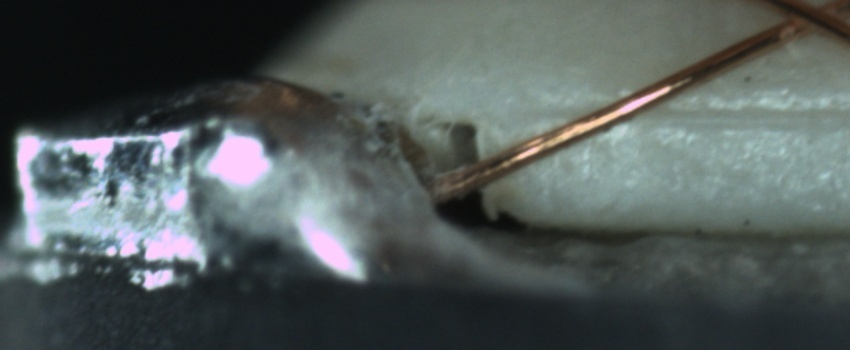CL: (757, 0, 840, 43)
DL: (537, 81, 846, 148)
